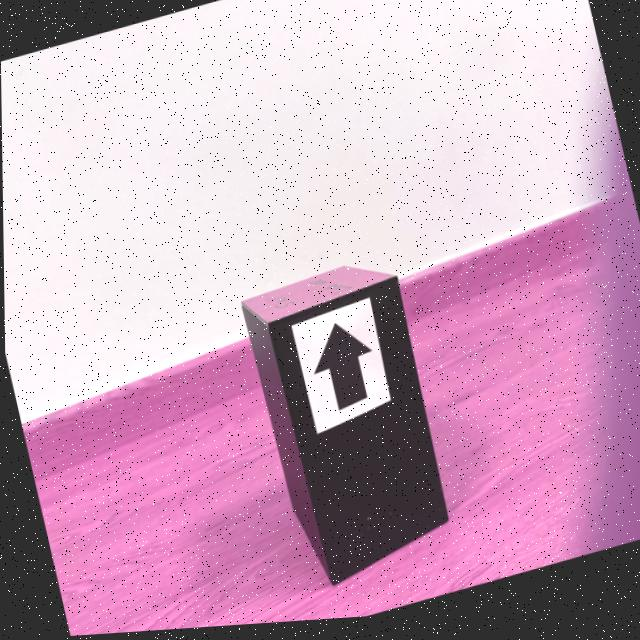UP: (312, 327, 372, 415)
